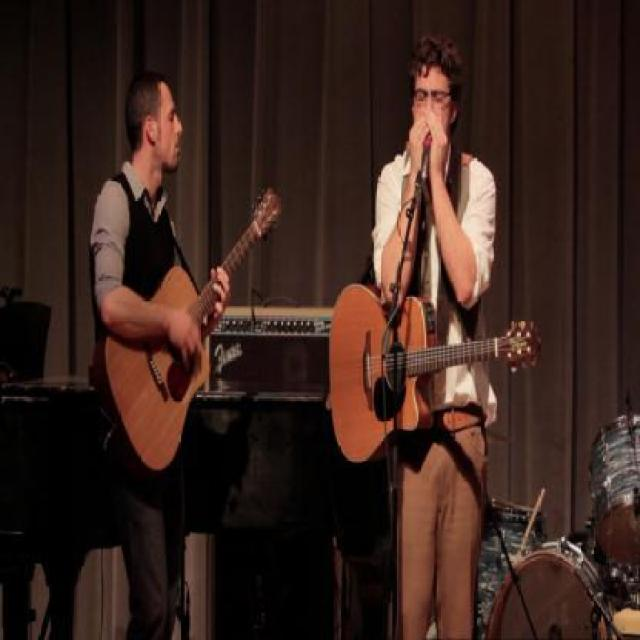Person: (335, 44, 517, 554), (89, 73, 231, 639)
